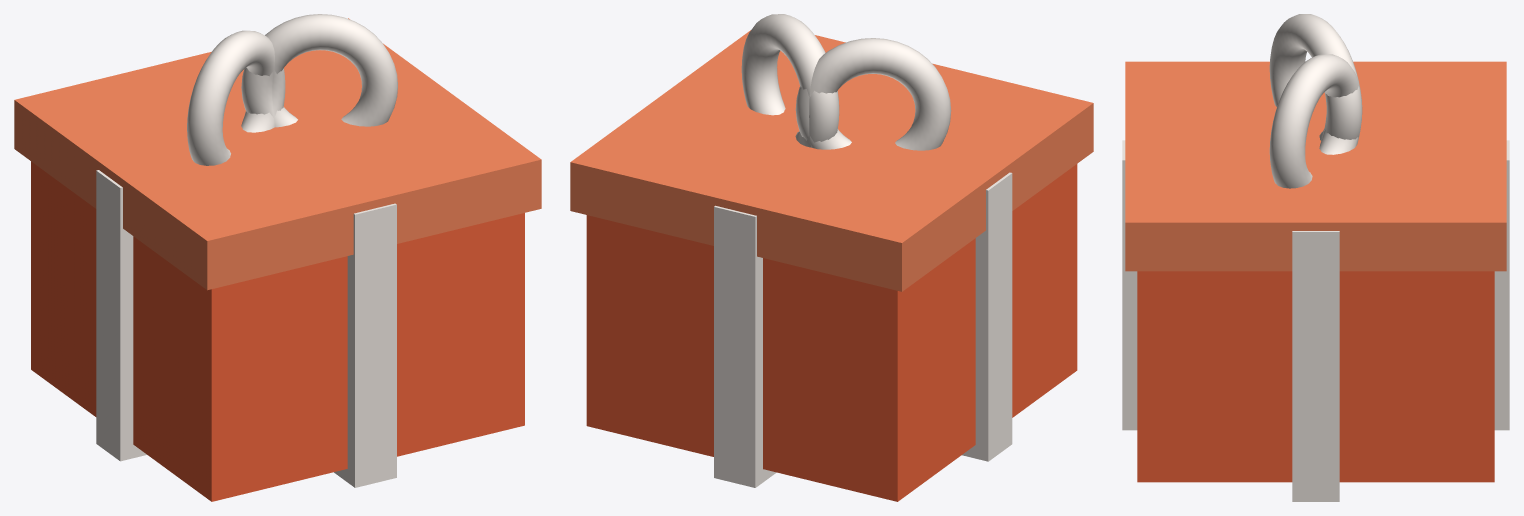
File: gift.glb
3 renders of one model, left to right at view 1: azimuth 30°, elevation 25°; view 2: azimuth 150°, elevation 25°; view 3: azimuth 270°, elevation 25°, orthographic.
Parts seen in each view (by area): view 1: Box, Lid, GiftBox; view 2: Box, Lid, GiftBox; view 3: Lid, Box, GiftBox.
Part boxes in pixels (x1,y1,x2,y2): Box: [31, 161, 524, 501]; Lid: [14, 18, 541, 290]; GiftBox: [96, 14, 397, 487]; Box: [586, 164, 1077, 501]; Lid: [570, 30, 1093, 291]; GiftBox: [714, 14, 1012, 487]; Lid: [1125, 61, 1506, 271]; Box: [1137, 271, 1494, 482]; GiftBox: [1122, 14, 1509, 501].
Size of the model in its own units: 1.3 by 1.41 by 1.3.
